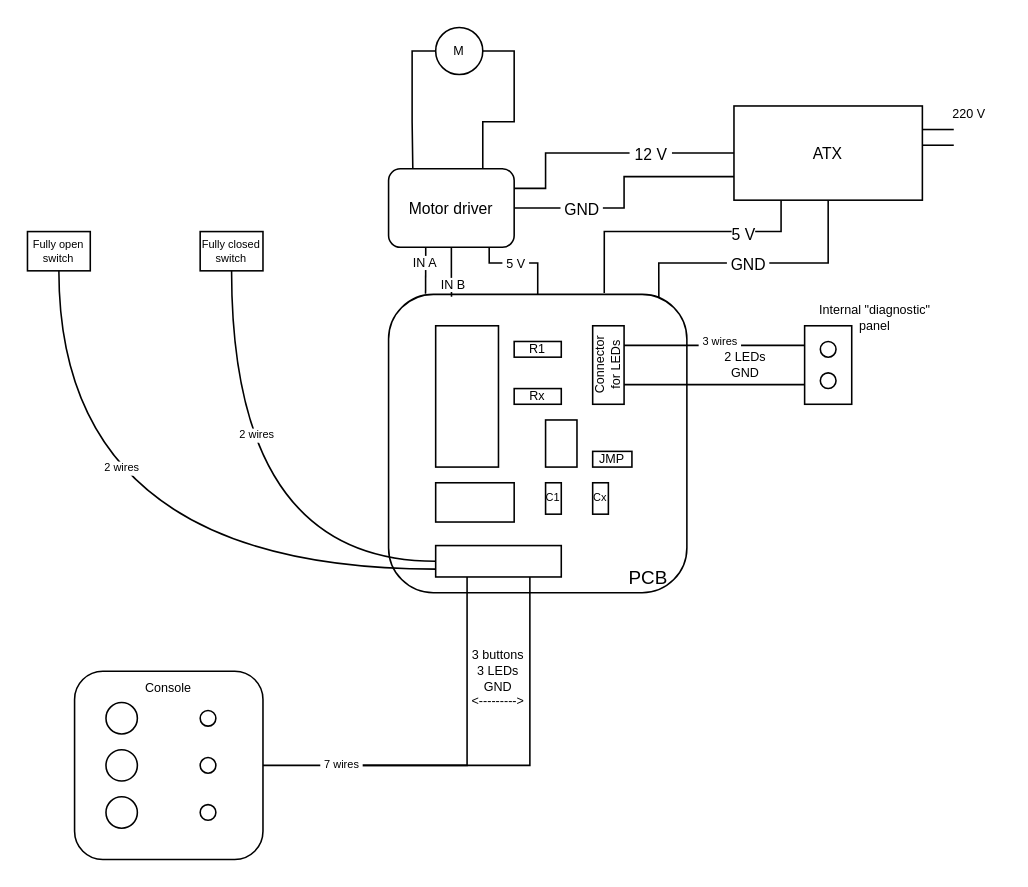
The diagram is 1028 pixels wide and 887 high, and some of its shapes have lost their labels. The shapes that lost their labels are listed below. From the top down, each one's centre as x and y in pixels, then its label:
[466,395]: ATMEGA
[560,442]: ISP
[474,501]: MAX6818
[497,560]: Connector for butttons & switches
